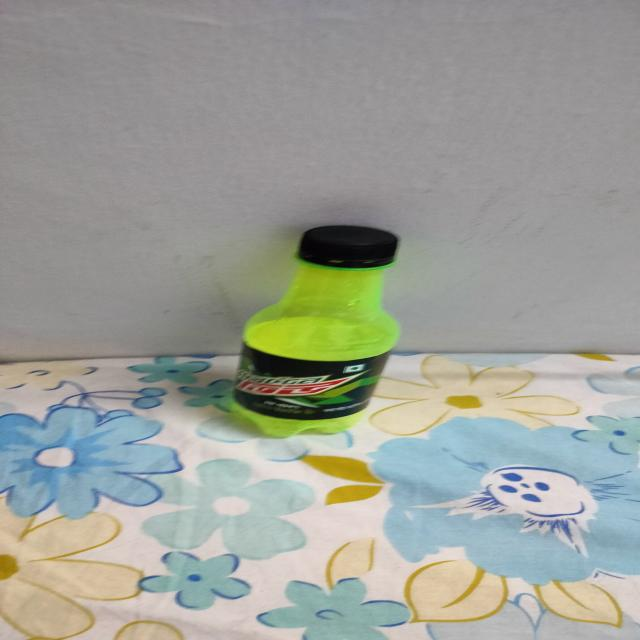Bottle: (230, 225, 402, 438)
